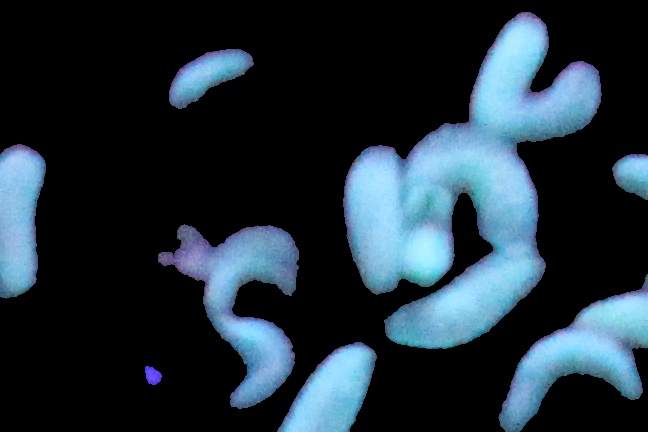larvae: (393, 133, 543, 245), (385, 251, 549, 347), (507, 326, 642, 431), (462, 12, 550, 130), (205, 220, 299, 316), (347, 147, 405, 292), (214, 314, 291, 416), (290, 341, 373, 432), (526, 61, 601, 139), (1, 143, 39, 295), (168, 51, 251, 114), (570, 284, 648, 343)
